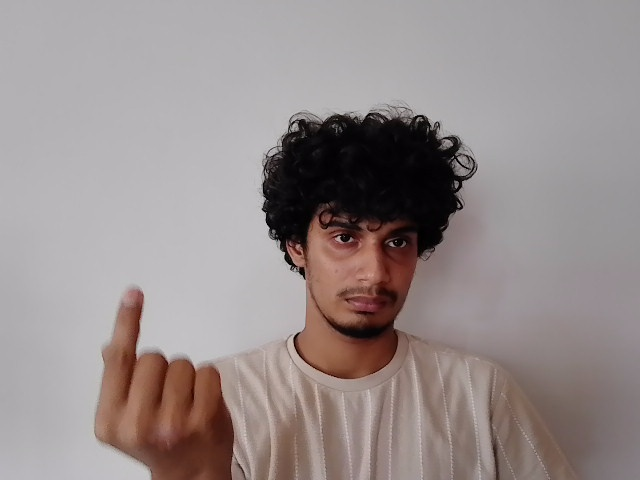just: (89, 285, 238, 468)
